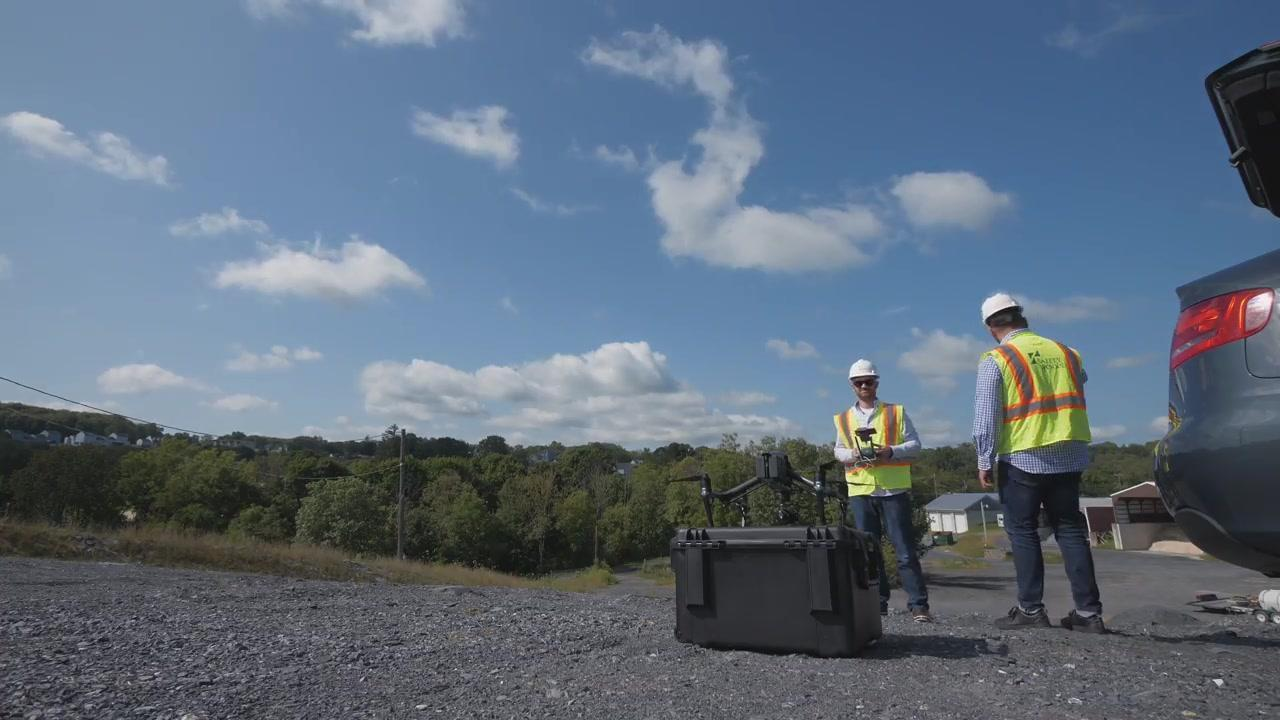Boots: (974, 284, 1028, 327), (843, 352, 885, 385)
Glass: (981, 329, 1094, 453), (830, 401, 915, 496)
